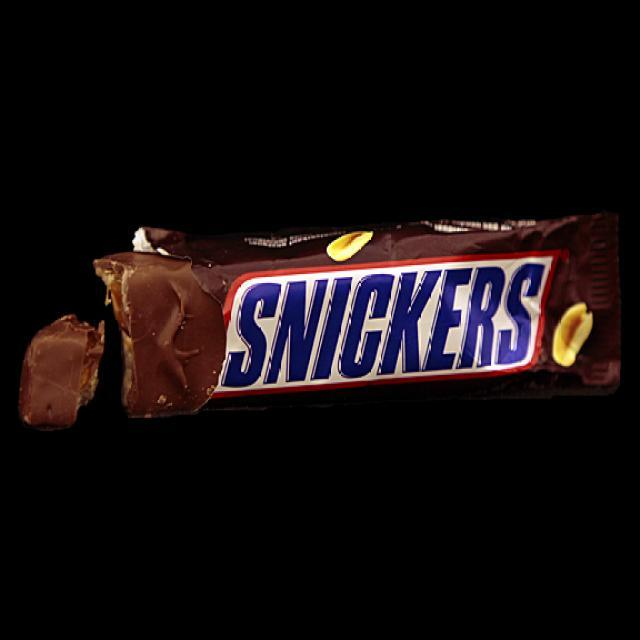Chocolate bar: (205, 191, 607, 411)
Chocolate bar packaged: (92, 250, 201, 420), (21, 313, 102, 429)
